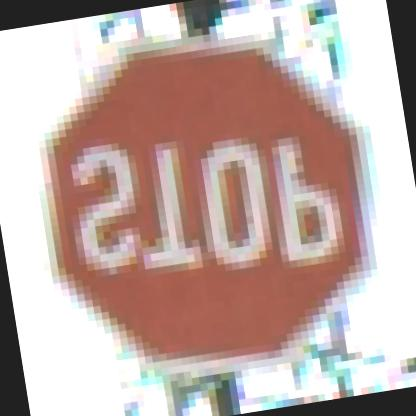stop: (9, 20, 402, 392)
